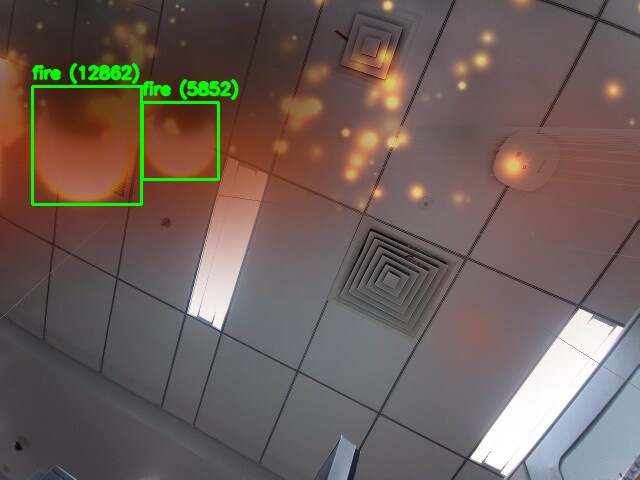fire: (32, 86, 141, 204), (142, 102, 218, 179)
